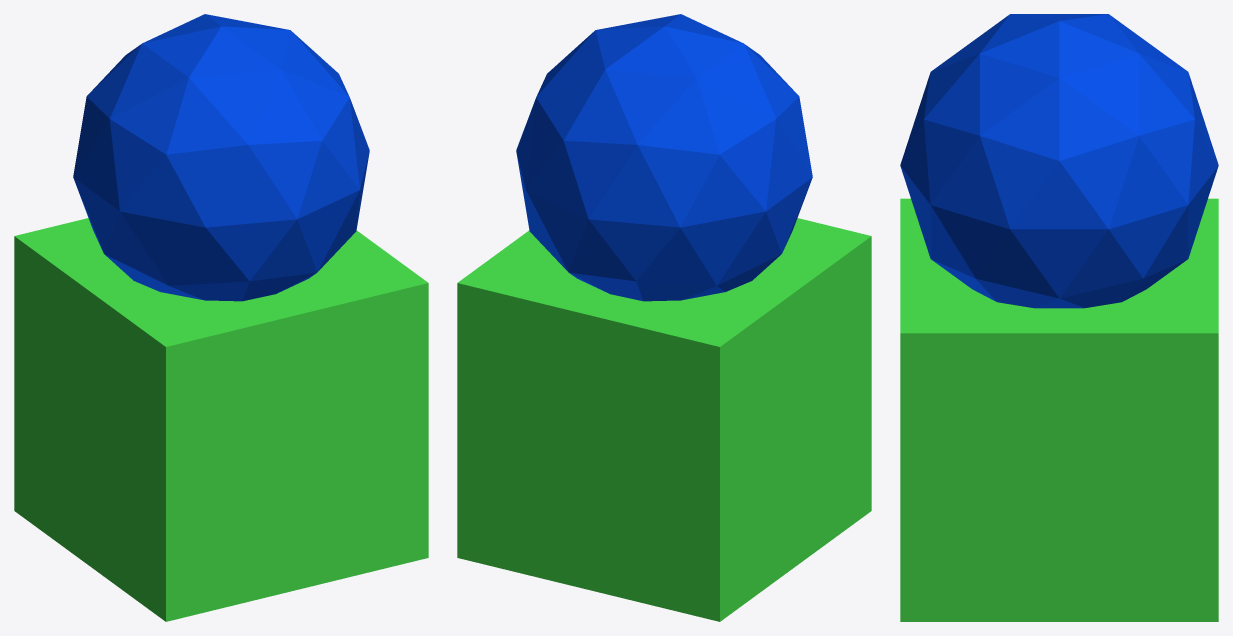
The picture shows the model from 3 angles, left to right: view 1: azimuth 30°, elevation 25°; view 2: azimuth 150°, elevation 25°; view 3: azimuth 270°, elevation 25°; orthographic projection. The views are drawn at different scales.
Visible parts, largest first — view 1: Icosphere; view 2: Icosphere; view 3: Icosphere.
Part boxes in pixels (left/top/right/bottom): Icosphere: left=14, top=14, right=428, bottom=621; Icosphere: left=457, top=14, right=871, bottom=621; Icosphere: left=900, top=14, right=1218, bottom=621.
Bounding box in the file's own units: 2 × 3.7 × 2.
